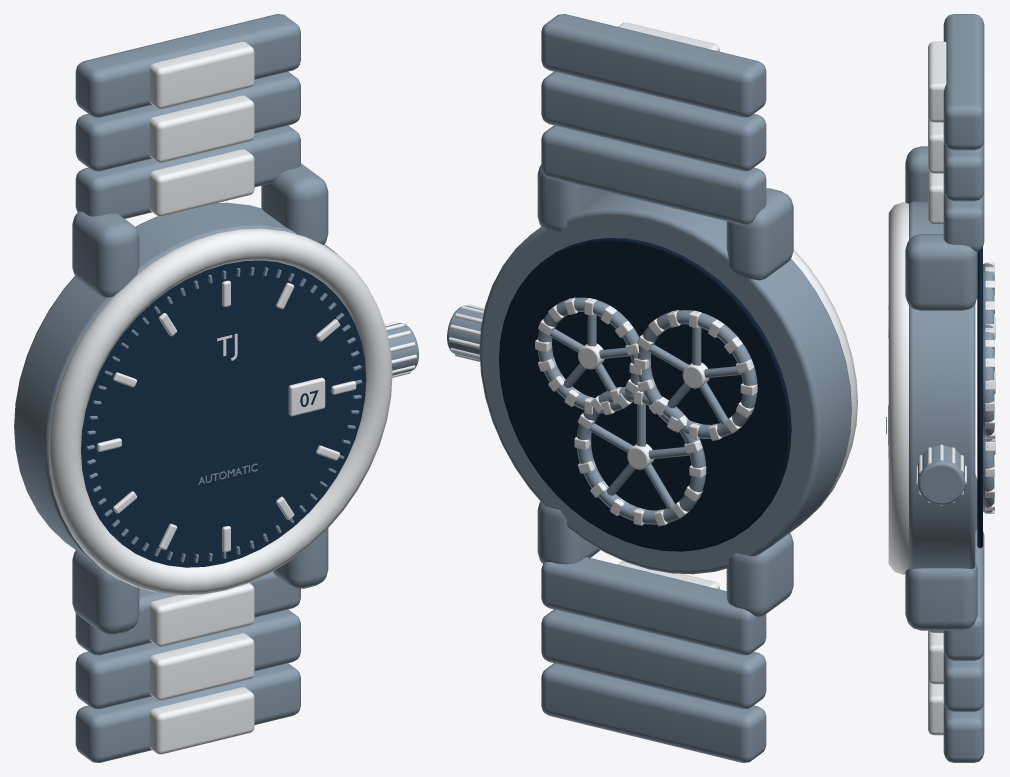
The model's file is watch.glb.
3 views of the same model, side by side, from view 1: azimuth 30°, elevation 25°; view 2: azimuth 150°, elevation 25°; view 3: azimuth 270°, elevation 25° (orthographic). The views are drawn at different scales.
Visible parts, largest first — view 1: Navy dial, Outer bezel, Watch case, Bracelet outer.005, Bracelet outer, Bracelet outer.004, Bracelet outer.001, Bracelet outer.003, Polished centre.003, Polished centre, Polished centre.001, Polished centre.004 (+9 smaller); view 2: Caseback, Watch case, Bracelet outer.005, Bracelet outer.002, Bracelet outer, Bracelet outer.004, Bracelet outer.001, Bracelet outer.003, Case lug.001, Case lug, Gear rim.002, Gear rim (+6 smaller); view 3: Watch case, Outer bezel, Bracelet outer.005, Case lug.003, Case lug.002, Bracelet outer.004, Bracelet outer, Bracelet outer.001, Crown, Bracelet outer.002, Bracelet outer.003, Caseback (+9 smaller).
Boxes of the visible parts, <box> form: Navy dial: <box>81,260,366,567</box>; Outer bezel: <box>48,228,392,595</box>; Watch case: <box>14,202,337,571</box>; Bracelet outer.005: <box>75,14,300,117</box>; Bracelet outer: <box>75,663,300,762</box>; Bracelet outer.004: <box>75,71,300,171</box>; Bracelet outer.001: <box>75,609,300,709</box>; Bracelet outer.003: <box>75,125,300,218</box>; Polished centre.003: <box>149,149,254,216</box>; Polished centre: <box>149,687,254,754</box>; Polished centre.001: <box>149,633,254,700</box>; Polished centre.004: <box>149,95,254,162</box>; Caseback: <box>499,238,791,551</box>; Watch case: <box>479,191,851,574</box>; Bracelet outer.005: <box>541,14,766,117</box>; Bracelet outer.002: <box>541,557,766,655</box>; Bracelet outer: <box>541,663,766,762</box>; Bracelet outer.004: <box>541,71,766,171</box>; Bracelet outer.001: <box>541,609,766,709</box>; Bracelet outer.003: <box>541,125,766,224</box>; Case lug.001: <box>726,188,793,280</box>; Case lug: <box>726,533,793,617</box>; Gear rim.002: <box>577,387,705,524</box>; Gear rim: <box>637,310,757,438</box>; Watch case: <box>909,201,975,568</box>; Outer bezel: <box>888,202,908,574</box>; Bracelet outer.005: <box>943,14,984,150</box>; Case lug.003: <box>905,234,977,310</box>; Case lug.002: <box>905,561,977,630</box>; Bracelet outer.004: <box>943,141,984,201</box>; Bracelet outer: <box>943,702,984,762</box>; Bracelet outer.001: <box>943,651,984,711</box>; Crown: <box>918,445,964,504</box>; Bracelet outer.002: <box>943,529,984,660</box>; Bracelet outer.003: <box>943,192,984,251</box>; Caseback: <box>977,247,982,548</box>.
Bounding box in the file's own units: 1.84 × 3.22 × 0.4845.
